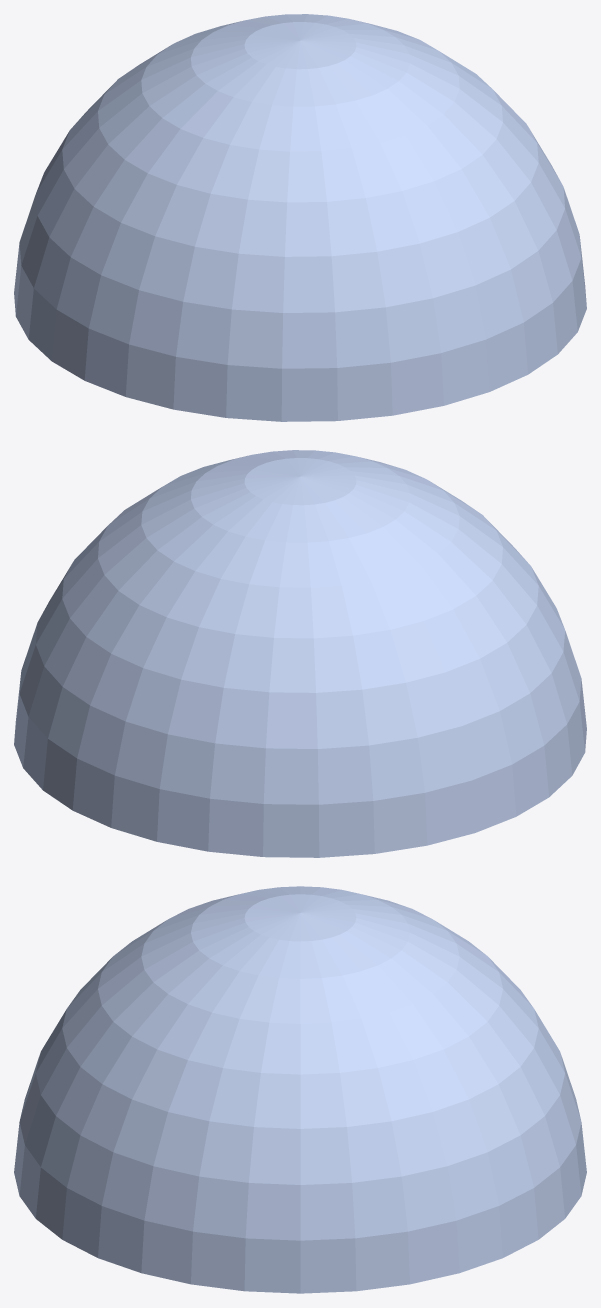
The model's file is glass.obj.
3 renders of one model, top to bottom at view 1: azimuth 30°, elevation 25°; view 2: azimuth 150°, elevation 25°; view 3: azimuth 270°, elevation 25°, orthographic.
Parts seen in each view (by area): view 1: Sphere; view 2: Sphere; view 3: Sphere.
Part boxes in pixels (x1,y1,x2,y2): Sphere: [14, 14, 586, 421]; Sphere: [14, 450, 586, 857]; Sphere: [14, 886, 586, 1293].
Bounding box in the file's own units: 2 × 1 × 2.
